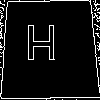H: (24, 24, 58, 71)
